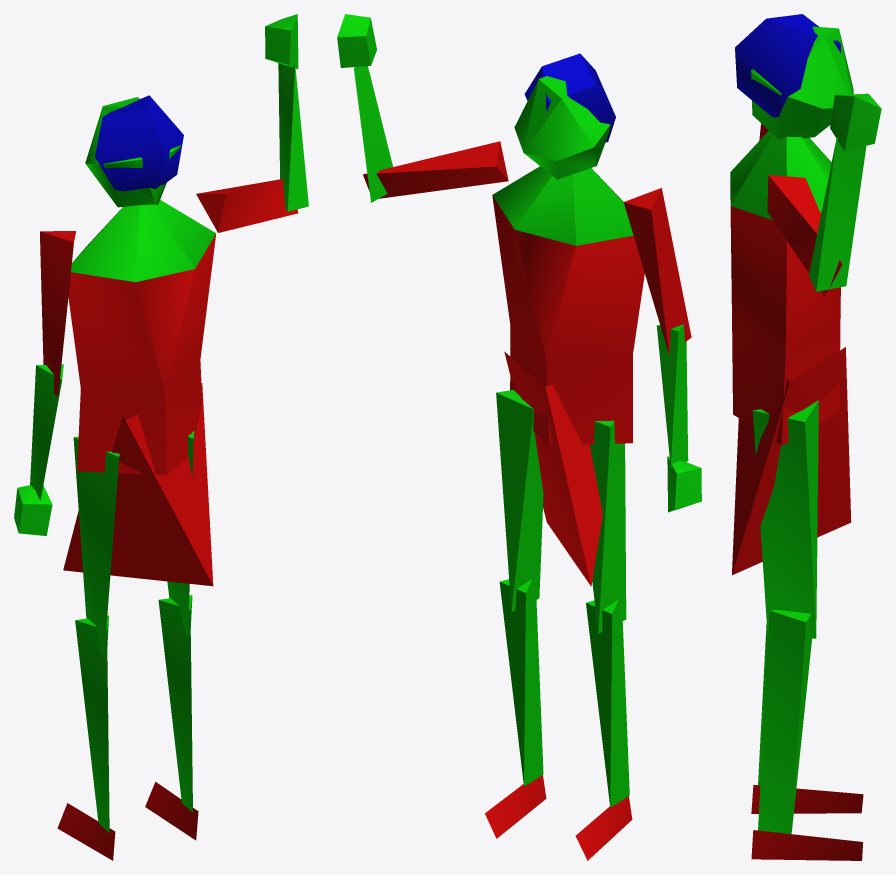
Rendered from stand_fist_pump_lod2.glb.
The picture shows the model from 3 angles, left to right: view 1: azimuth 30°, elevation 25°; view 2: azimuth 150°, elevation 25°; view 3: azimuth 270°, elevation 25°; orthographic projection. The views are drawn at different scales.
Visible parts, largest first — view 1: OUT_2; view 2: OUT_2; view 3: OUT_2.
Boxes of the visible parts, <box> form: OUT_2: <box>14,14,308,860</box>; OUT_2: <box>337,14,701,860</box>; OUT_2: <box>730,14,881,860</box>.
Bounding box in the file's own units: 0.748 × 1.74 × 0.2821.
